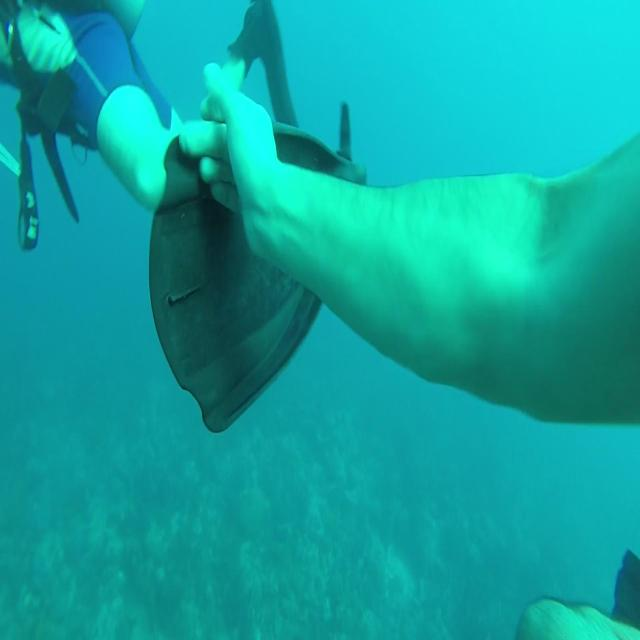human: (210, 52, 640, 434), (0, 0, 325, 300)
